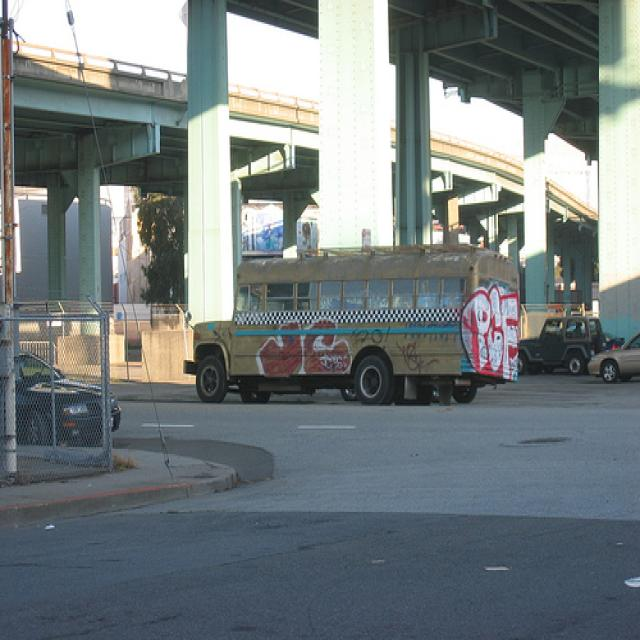bus: (192, 257, 519, 405)
car: (14, 351, 120, 450), (518, 317, 607, 376), (589, 330, 640, 385)
